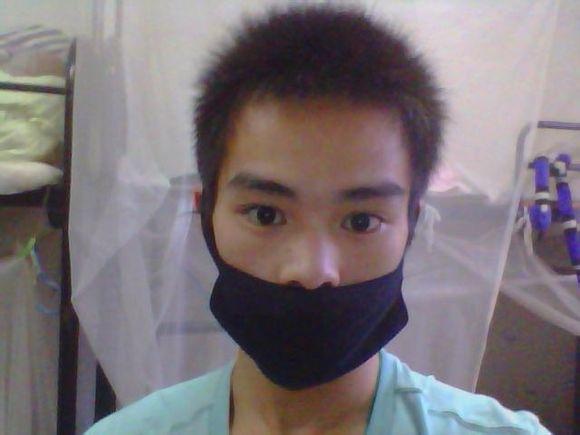WRONG: (213, 168, 410, 365)
